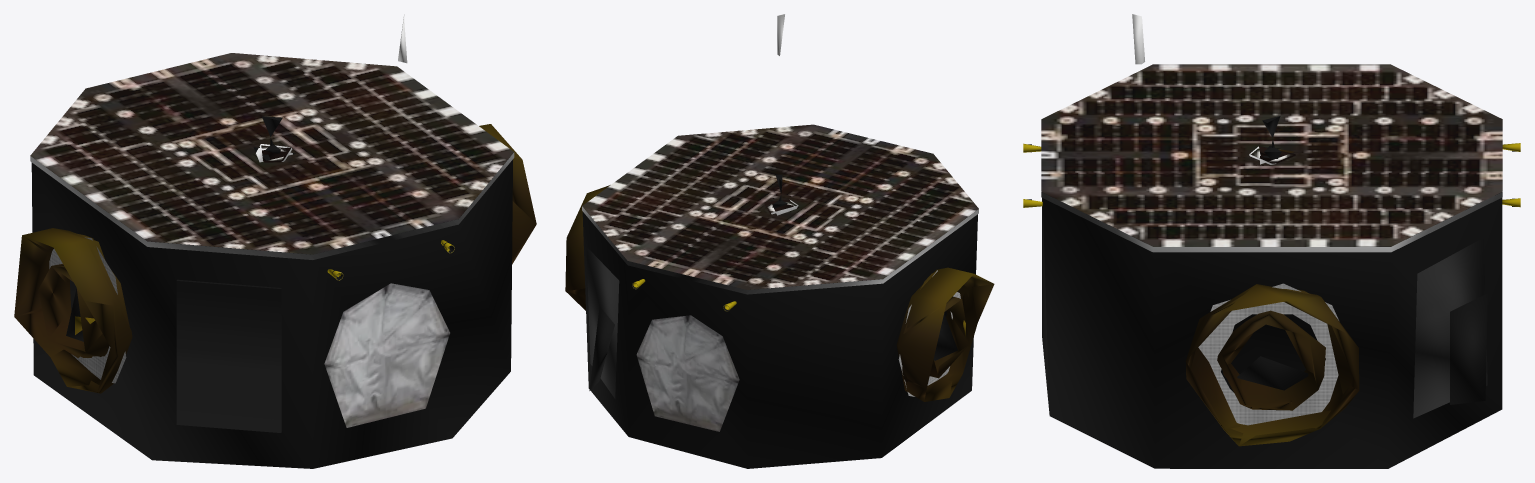
File: interstellar-boundary-explorer-ibex.glb
The picture shows the model from 3 angles, left to right: view 1: azimuth 30°, elevation 25°; view 2: azimuth 150°, elevation 25°; view 3: azimuth 270°, elevation 25°; orthographic projection. The views are drawn at different scales.
Visible parts, largest first — view 1: shiny_panel, black_krinkle, foil_silver, foil_gold; view 2: shiny_panel, black_krinkle, foil_gold, foil_silver; view 3: shiny_panel, black_krinkle, foil_gold, foil_silver.
Part boxes in pixels (<box>): shiny_panel: <box>30,14,513,427</box>; black_krinkle: <box>31,147,512,468</box>; foil_silver: <box>30,116,514,432</box>; foil_gold: <box>14,124,536,393</box>; shiny_panel: <box>582,14,978,431</box>; black_krinkle: <box>582,200,977,468</box>; foil_gold: <box>565,185,994,401</box>; foil_silver: <box>582,174,978,398</box>; shiny_panel: <box>1041,14,1502,425</box>; black_krinkle: <box>1027,144,1517,468</box>; foil_gold: <box>1023,143,1520,446</box>; foil_silver: <box>1041,116,1502,418</box>.
Bounding box in the file's own units: 1.18 × 0.9805 × 1.1.
4 materials, 3 textured.
